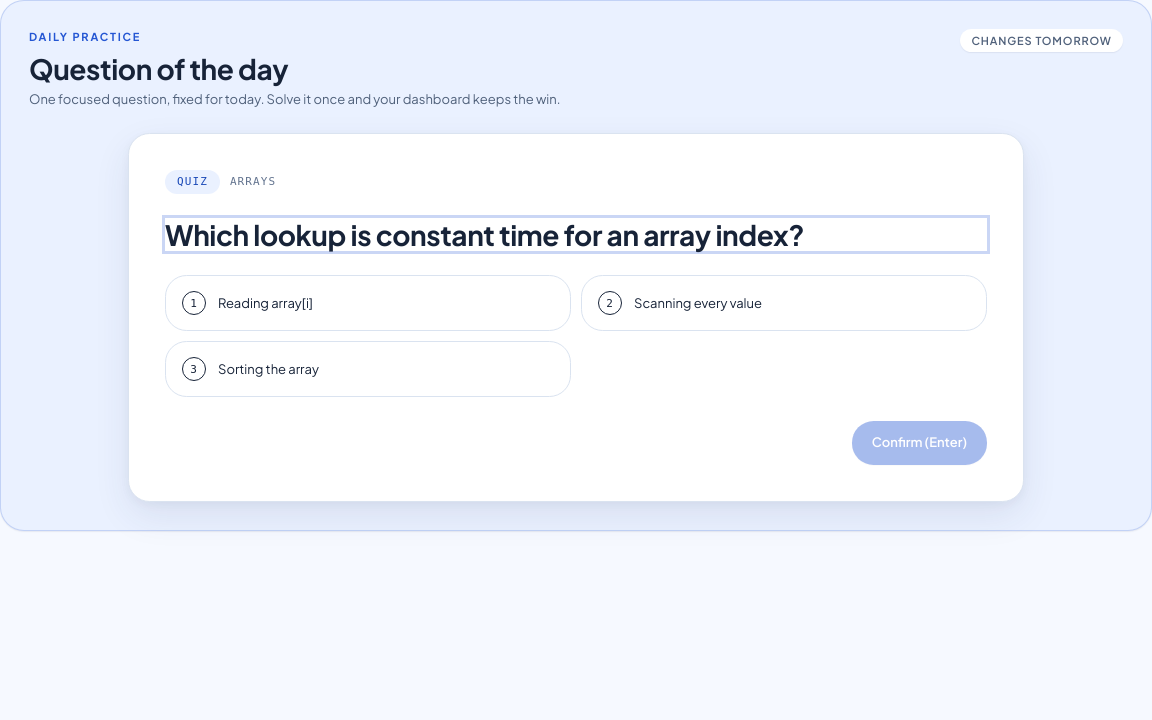
Test case: DashboardQuestionOfDay › shows one stable daily question and records a correct solution for today
The image size is (1152, 720).
Expected: the heading "Question of the day" is shown, [29, 51, 288, 86]
Expected: the heading "Which lookup is constant time for an array index?" is shown, [165, 218, 987, 252]
Click the button "1 Reading array[i]": [265, 303] box [165, 276, 571, 332]
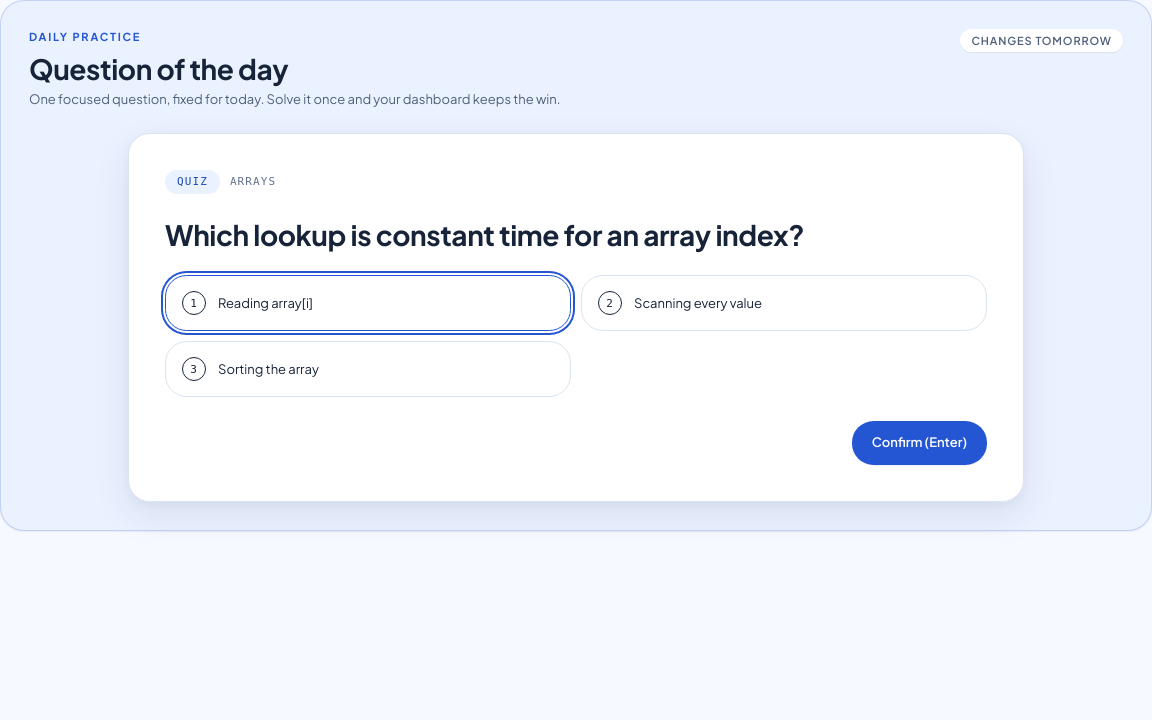
Click the button "Confirm (Enter)": [919, 443] box [852, 422, 987, 465]
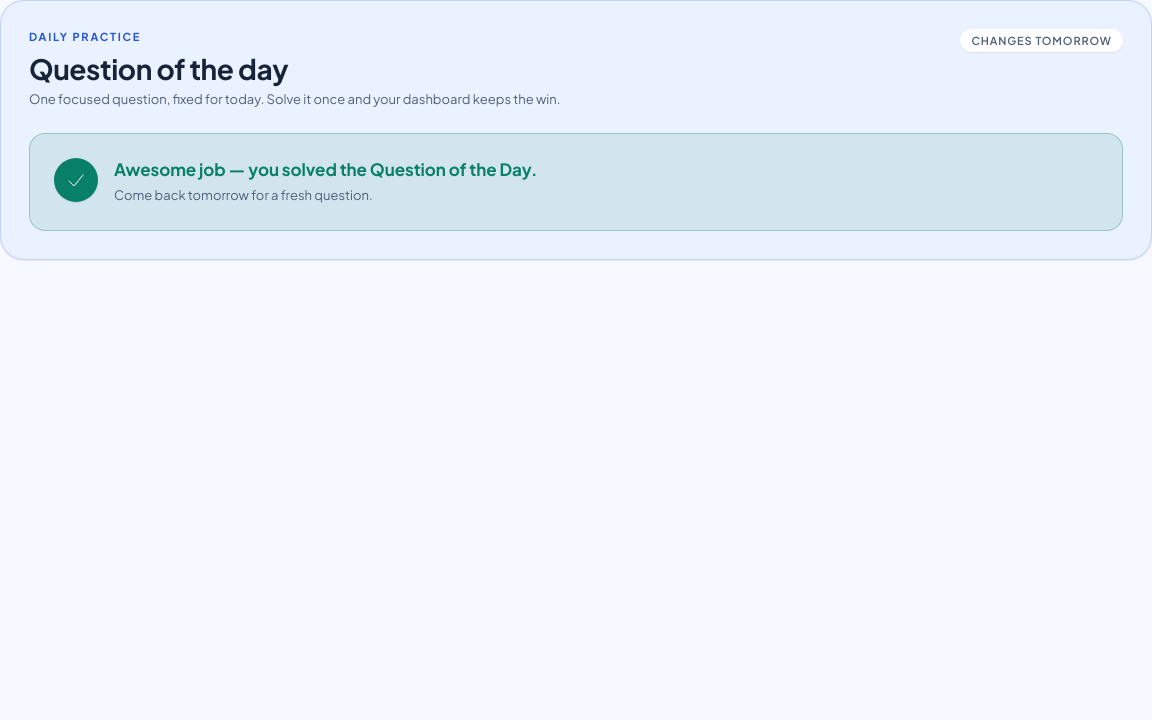
Now the text "Awesome job — you solved the Question of the Day." is shown, box [114, 158, 537, 182]
